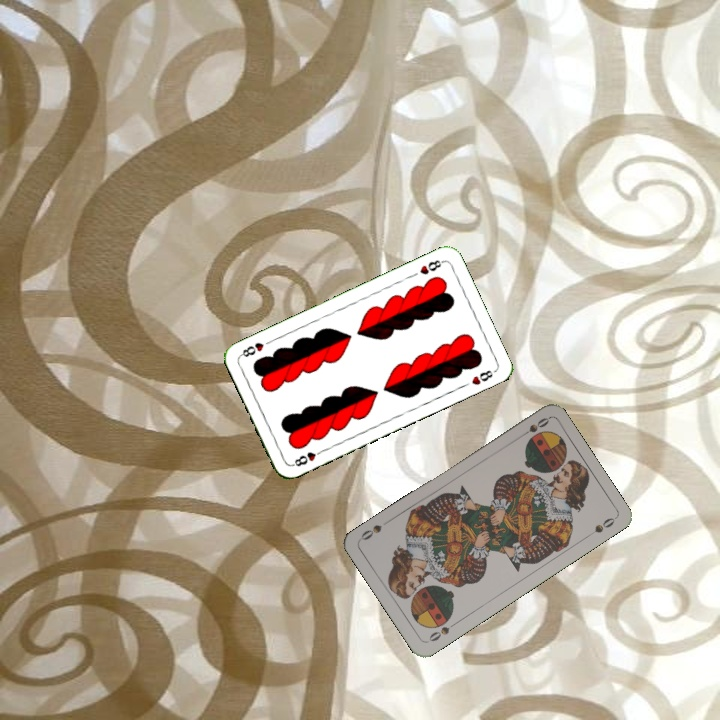H8: (288, 445, 326, 469), (416, 256, 446, 277)
SO: (516, 413, 552, 441), (423, 618, 460, 645)
